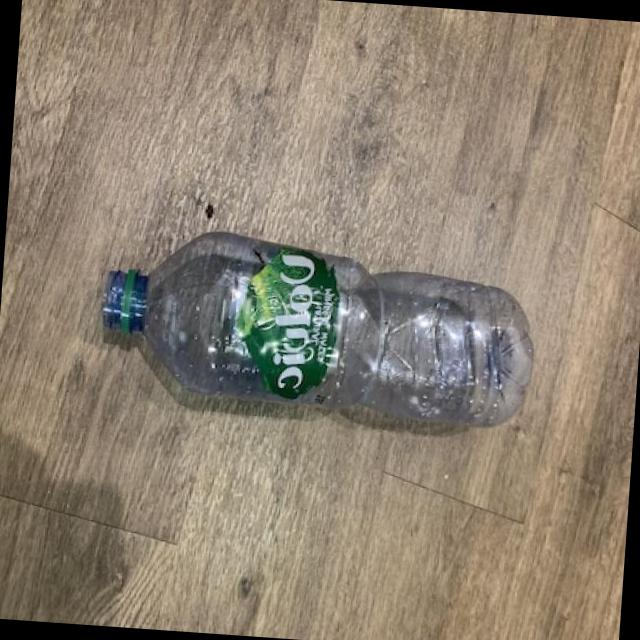plastic_bottle: (96, 222, 541, 428)
